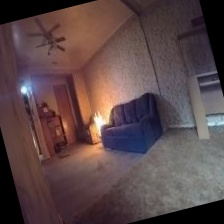fire: (87, 109, 106, 136)
